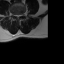CCS_stenosis: (17, 12, 19, 20)
LFS_normal: (20, 12, 23, 17)
LLS_stenosis: (19, 13, 20, 19)
RFS_stenosis: (14, 12, 15, 18)
RLS_normal: (15, 13, 17, 19)
